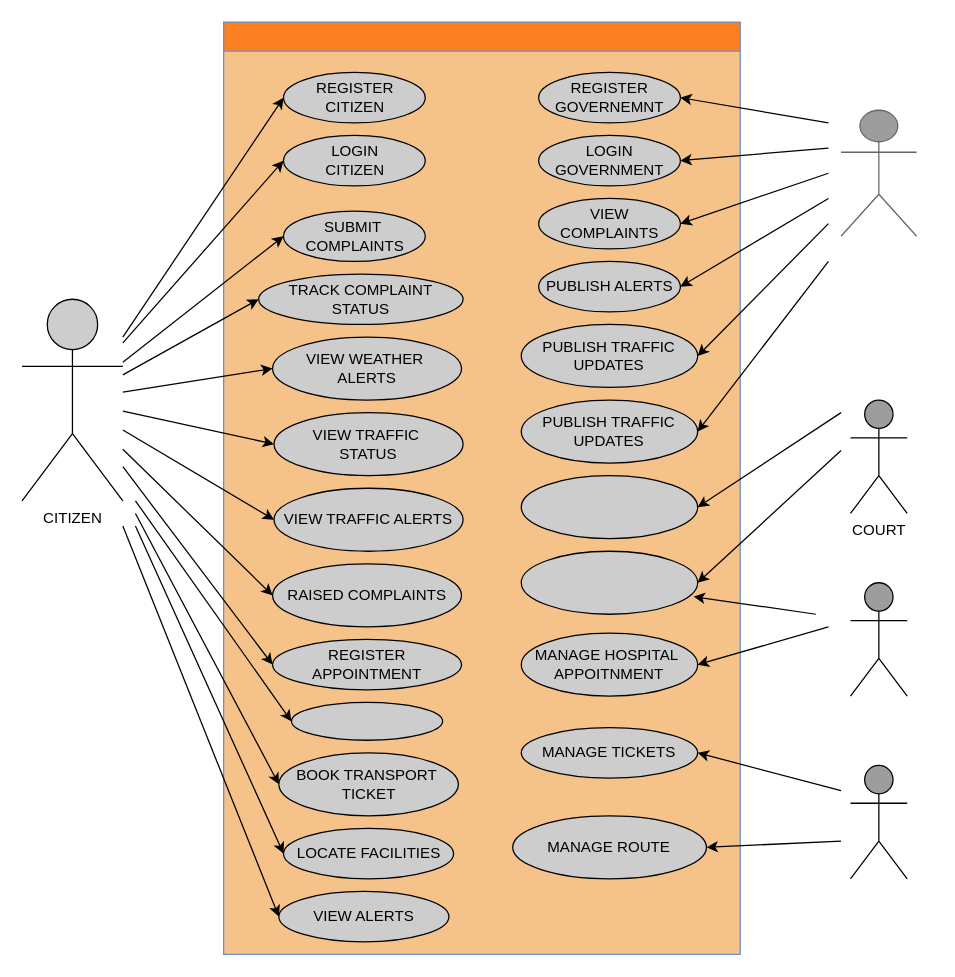
This 955x977 diagram has some shape labels left out. Each missing label, with the box of its shape:
CALL SERVICES: (290, 701, 443, 740)
CityZen: (222, 21, 740, 954)
GOVERNMENT: (840, 109, 917, 236)
HOSPITAL: (849, 581, 907, 696)
MANAGE COURT APPOINTMENTS: (520, 474, 698, 539)
TRANSPORT: (849, 764, 907, 879)
VIEW APPOINTMENTS: (520, 550, 698, 614)
